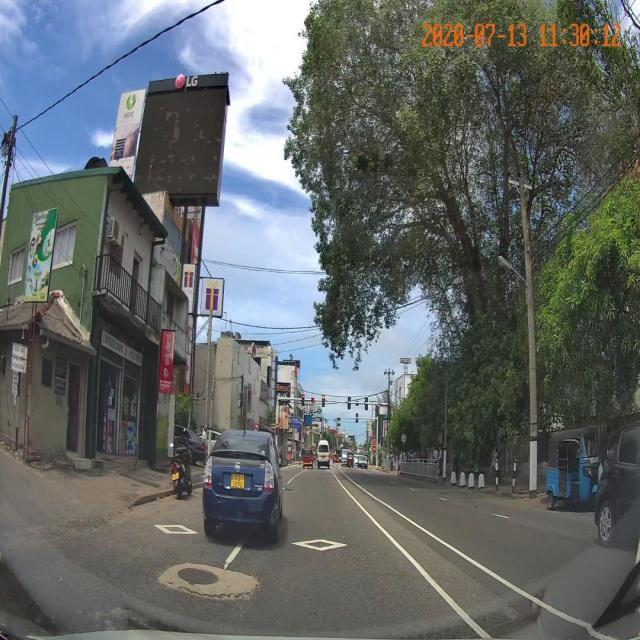Liniya 1: (345, 474, 594, 633), (334, 476, 492, 638), (220, 542, 245, 568), (286, 474, 298, 485), (493, 513, 509, 519)
Romb: (293, 536, 346, 551), (153, 522, 197, 535)
